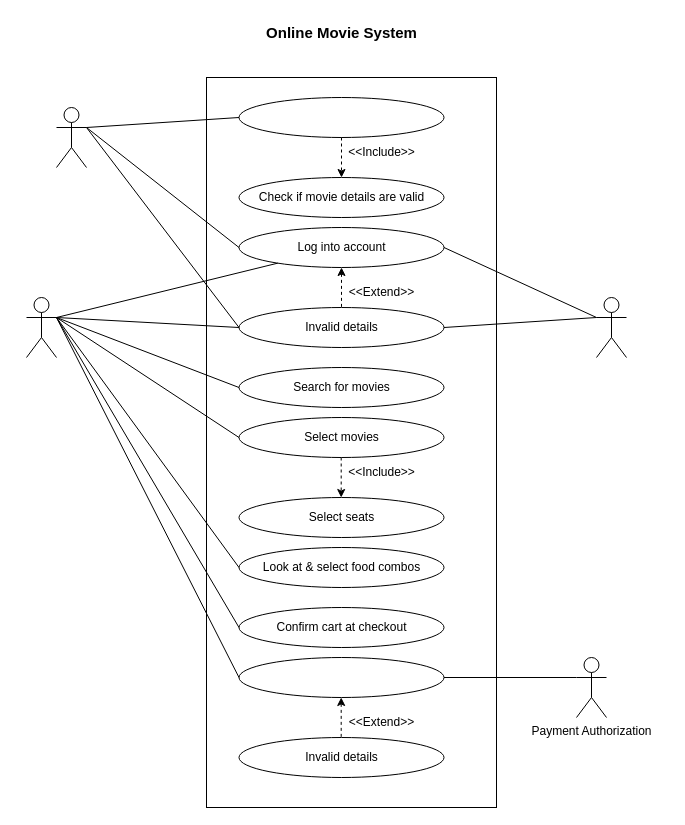
This 685x825 diagram has some shape labels left out. The shapes that lost their labels are listed below. From the top down, each one's centre as x and y in pixels, then its label:
At point 71,137: "Theater Admin".
At point 341,117: "Update movie collection".
At point 41,327: "Site User".
At point 611,327: "Authorization Service".
At point 341,677: "Pay".
